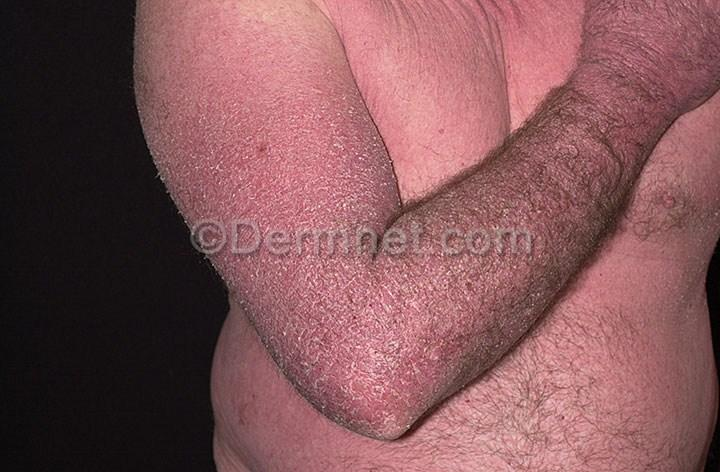Eczema: (199, 74, 279, 156), (261, 0, 339, 81), (438, 51, 516, 119), (161, 148, 228, 225), (279, 88, 336, 175), (337, 160, 401, 237), (196, 2, 264, 70), (140, 70, 197, 144), (419, 288, 469, 368), (232, 144, 282, 223), (324, 96, 378, 169), (229, 222, 281, 297), (341, 26, 407, 84), (305, 297, 365, 359), (438, 217, 499, 277), (431, 0, 508, 47), (468, 280, 524, 344), (135, 2, 190, 66), (333, 246, 390, 305), (388, 78, 447, 135), (515, 36, 570, 96), (338, 362, 394, 417), (284, 176, 333, 236), (388, 236, 441, 289), (399, 144, 454, 195), (289, 242, 335, 296), (248, 286, 304, 330), (298, 346, 342, 402), (321, 0, 409, 27), (389, 356, 435, 406), (366, 313, 415, 358), (513, 0, 579, 33), (453, 118, 500, 162), (399, 34, 445, 76), (194, 226, 233, 266), (265, 328, 304, 366), (397, 0, 440, 24)
